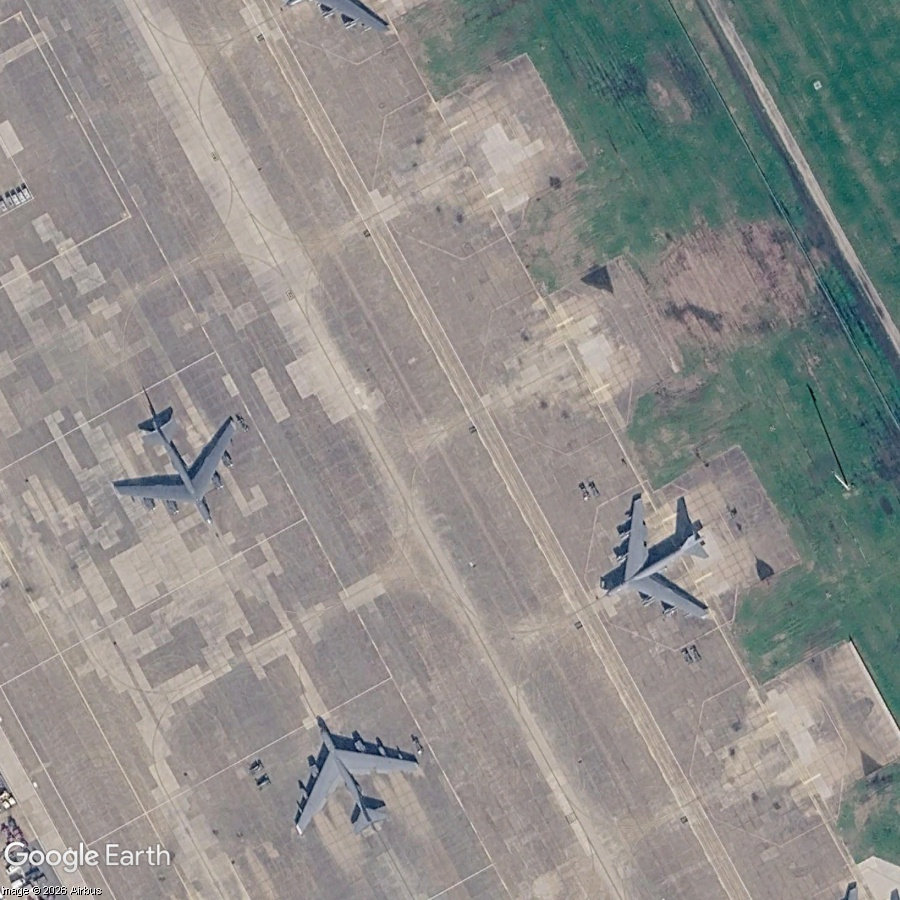Máy bay ném bom: (87, 378, 279, 565), (256, 691, 442, 868), (568, 474, 742, 657), (280, 0, 434, 71)
